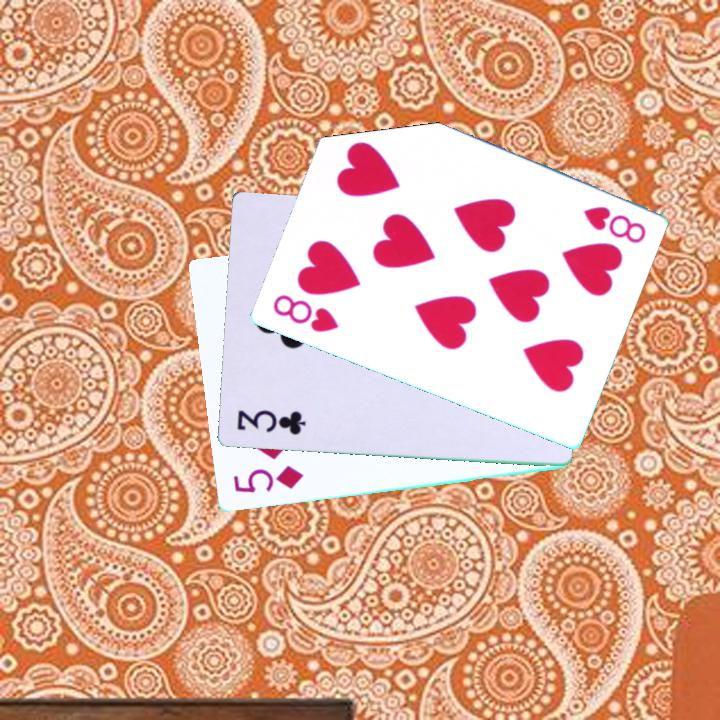3c: (233, 407, 309, 439)
5d: (229, 463, 306, 497)
8h: (268, 291, 341, 336), (579, 203, 649, 247)
